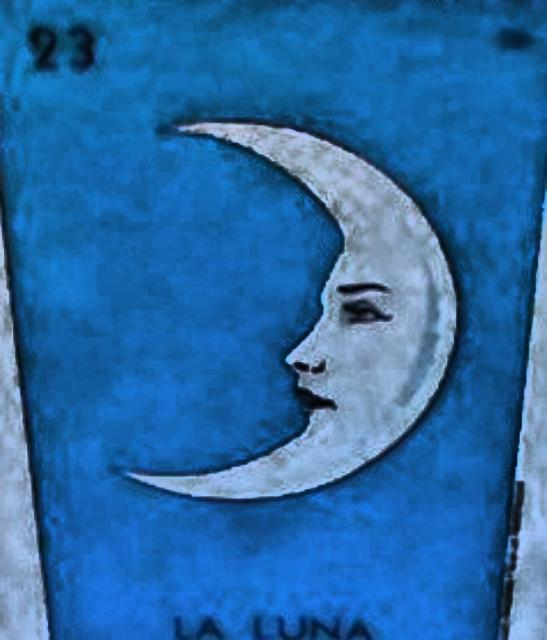La Luna: (2, 3, 545, 638)
